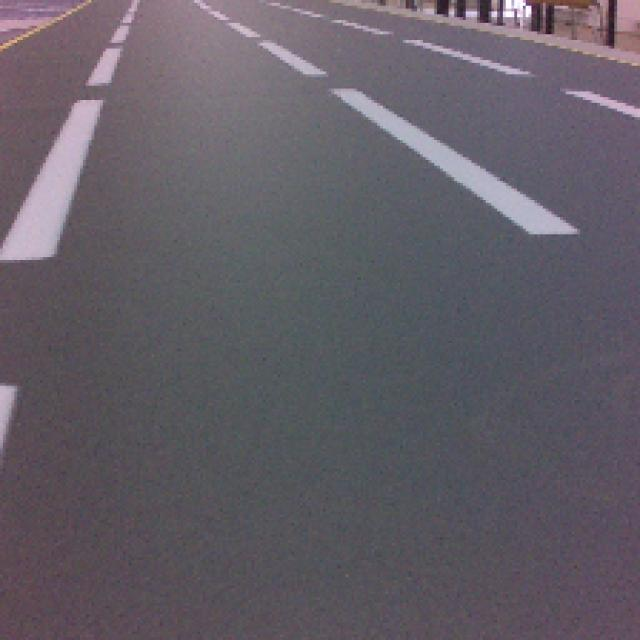Road: (5, 156, 640, 480)
